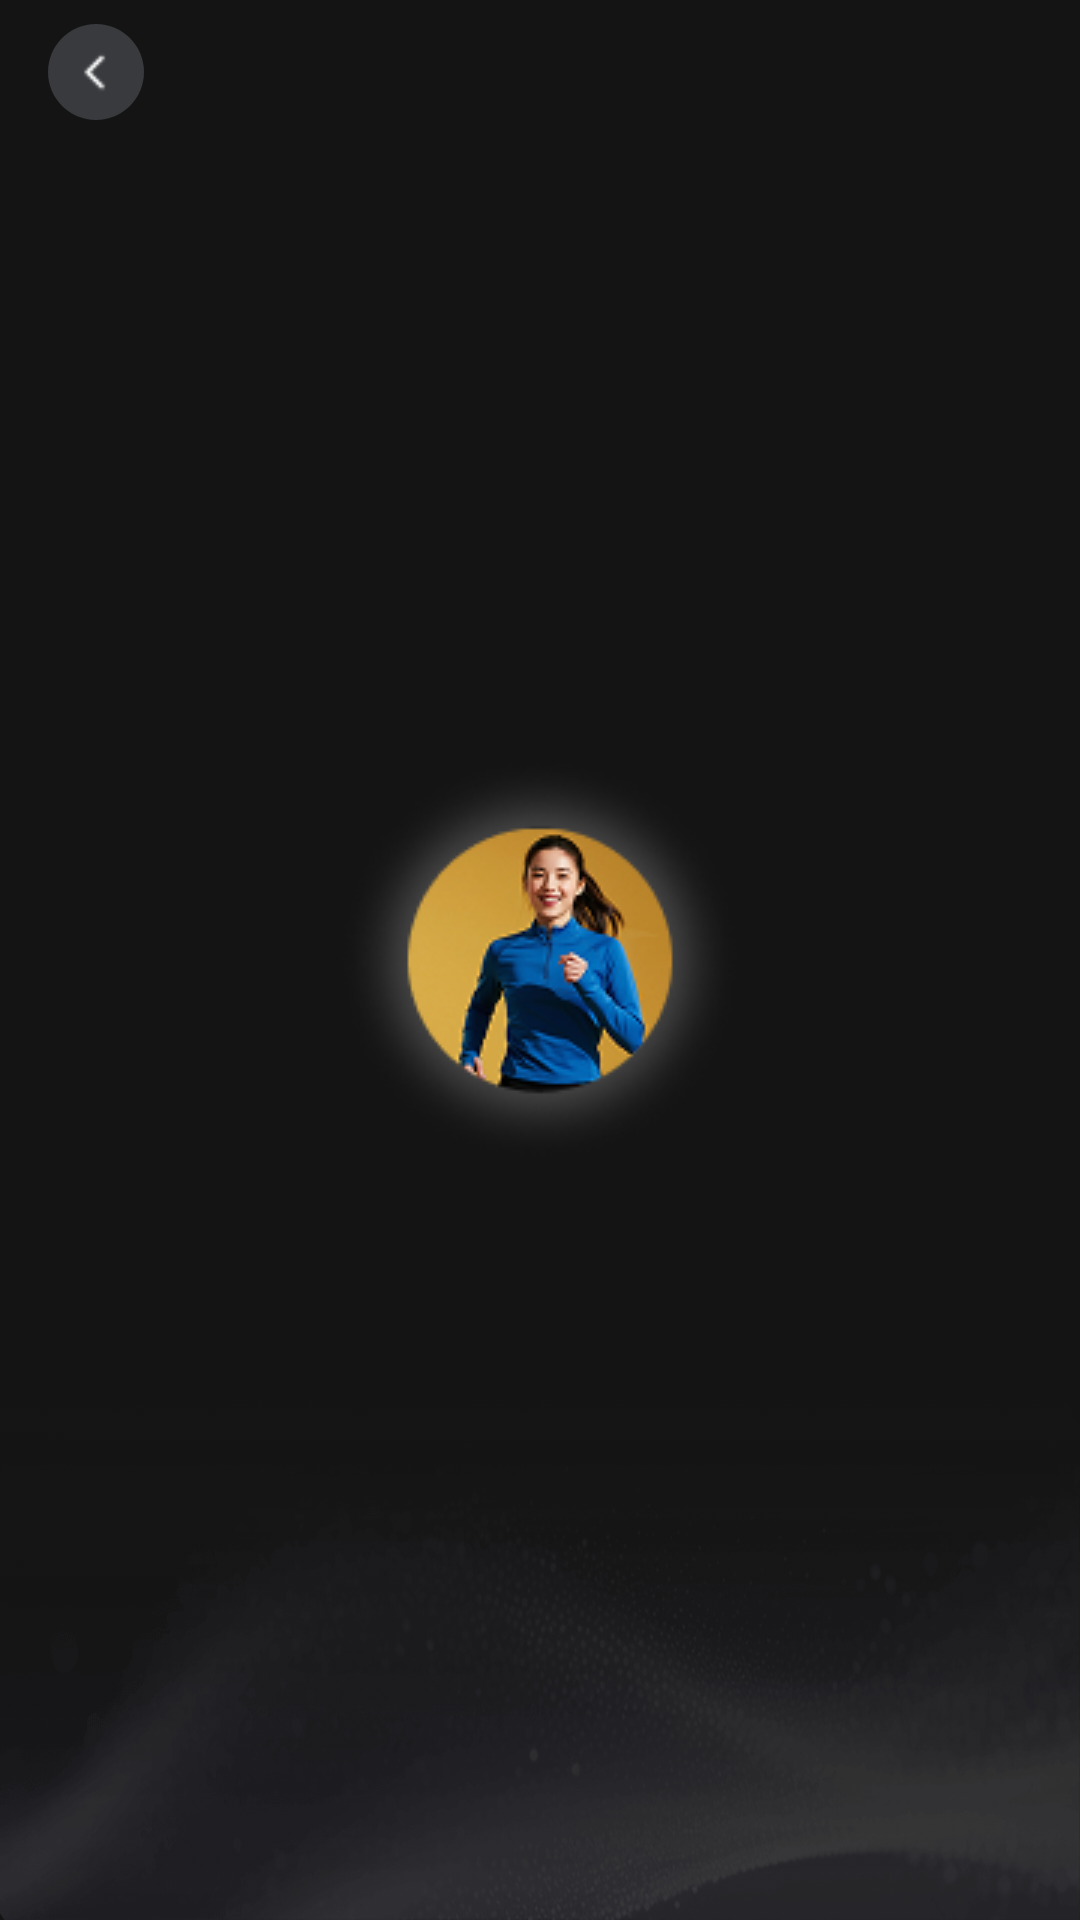

Where to tap for icons on this 1080px×1920px app screen, as point (x, y):
back: point (94, 72)
usr: point (540, 959)
